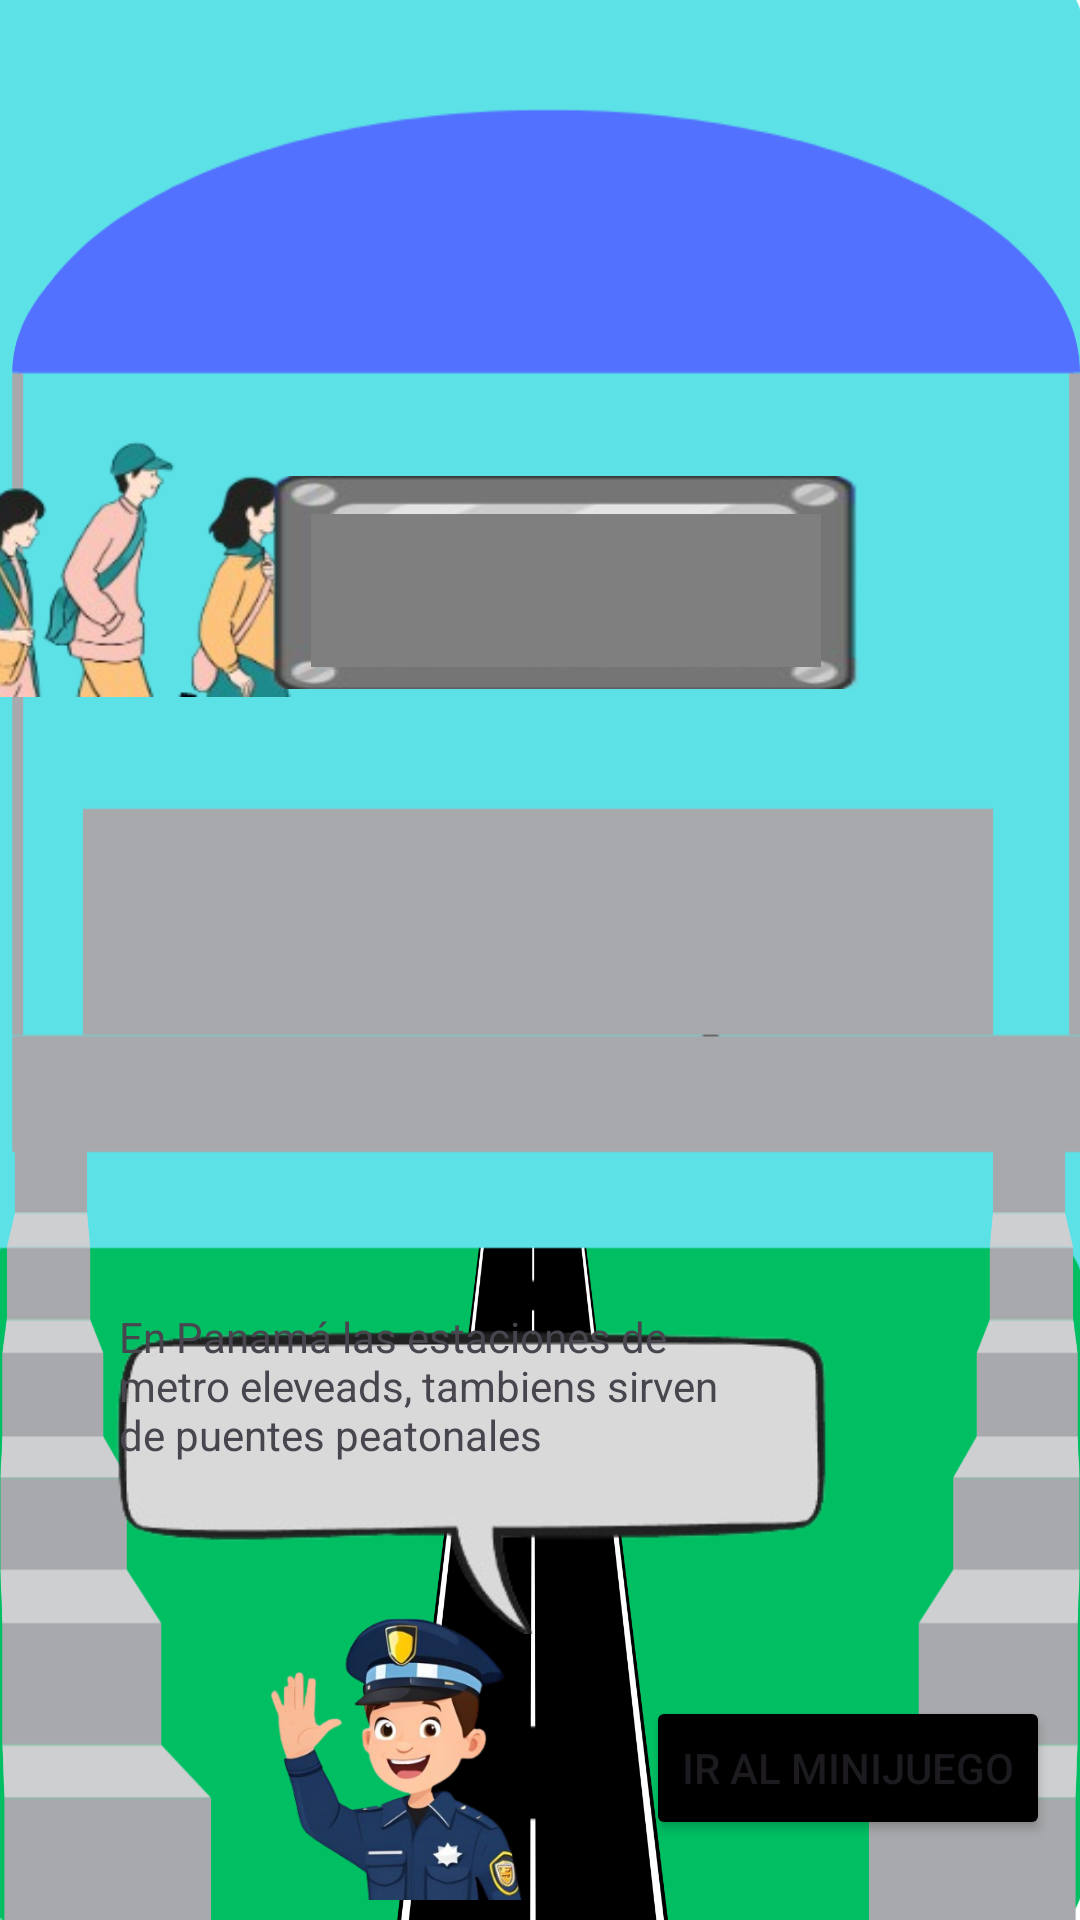

Icons on this 1080px×1920px Android screen, each with the point to tap as point (x, y):
personaje del juego: point (391, 1759)
